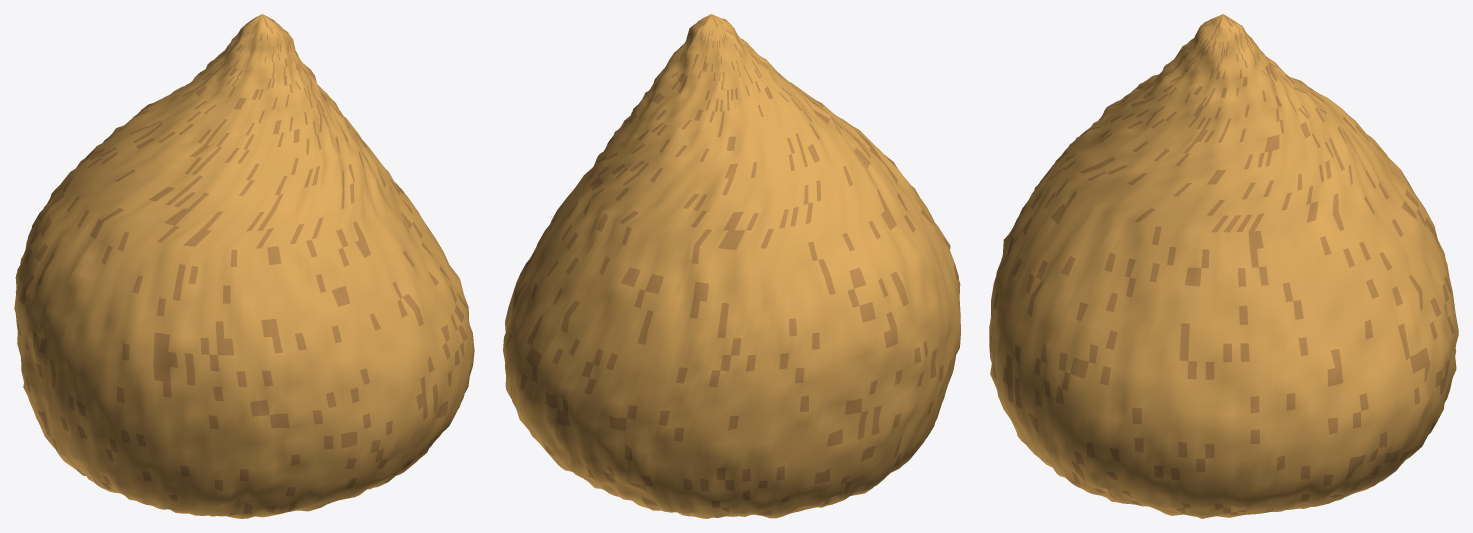
Rendered from coxinha.glb.
The picture shows the model from 3 angles, left to right: view 1: azimuth 30°, elevation 25°; view 2: azimuth 150°, elevation 25°; view 3: azimuth 270°, elevation 25°; orthographic projection. The views are drawn at different scales.
Parts seen in each view (by area): view 1: lathe; view 2: lathe; view 3: lathe.
Part boxes in pixels (x1,y1,x2,y2): lathe: (14,14,474,518); lathe: (503,14,960,518); lathe: (989,14,1458,518).
Bounding box in the file's own units: 0.0874 × 0.0946 × 0.0868.
